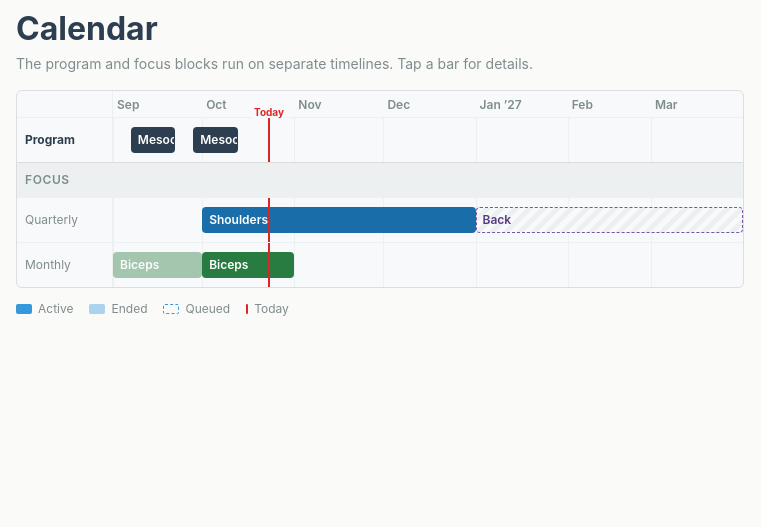
Test: FocusCalendar › logs and reports a cancel that fails, keeping the focus block
Step 1. Click the button with aria-label "Back focus block" → (497, 220), box [476, 207, 743, 233]
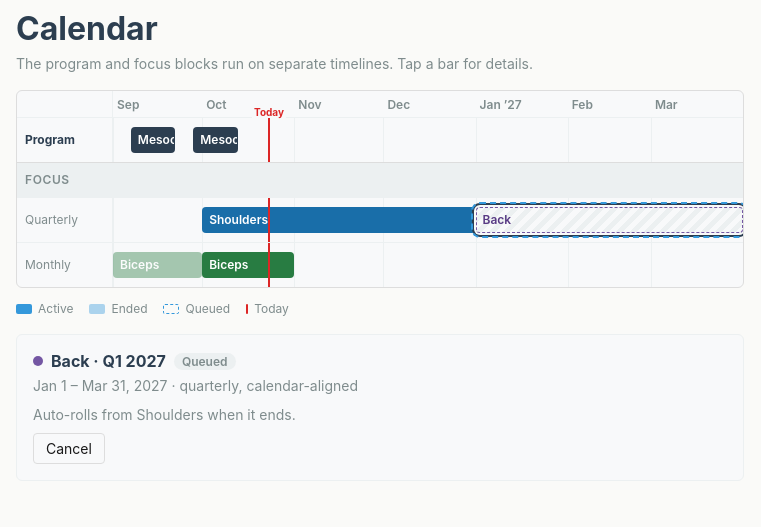
Step 2. Click the button "Cancel" → (69, 448), box [33, 433, 105, 464]
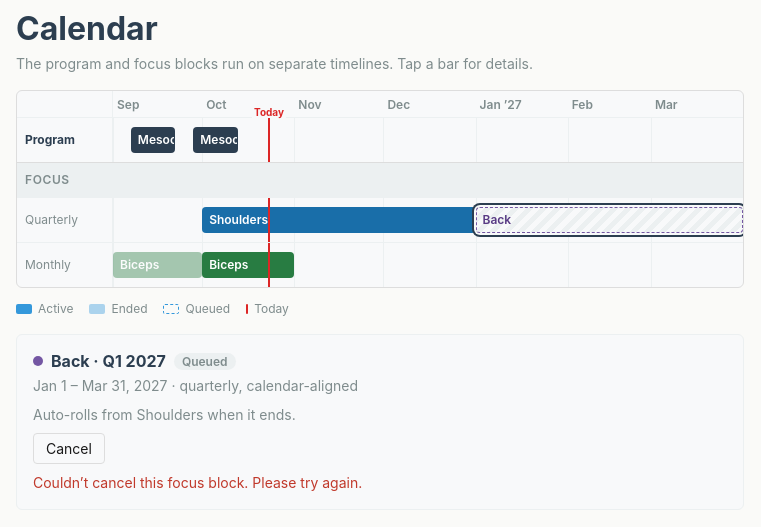
Expected: the button with aria-label "Back focus block" is shown, [476, 207, 743, 233]
Expected: the message shows "Couldn’t cancel this focus block.", [33, 474, 362, 491]
